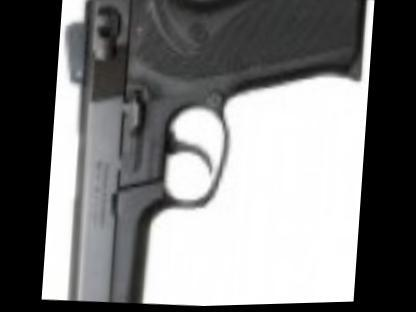pistol: (41, 0, 369, 310)
